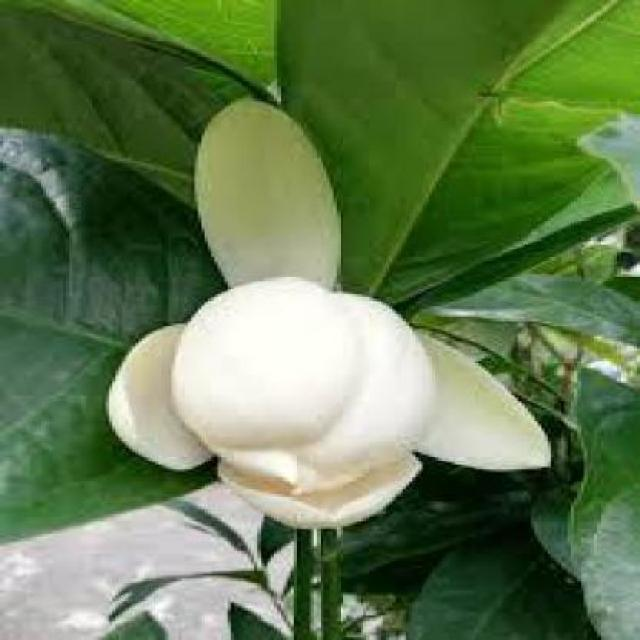flower: (86, 86, 552, 539)
